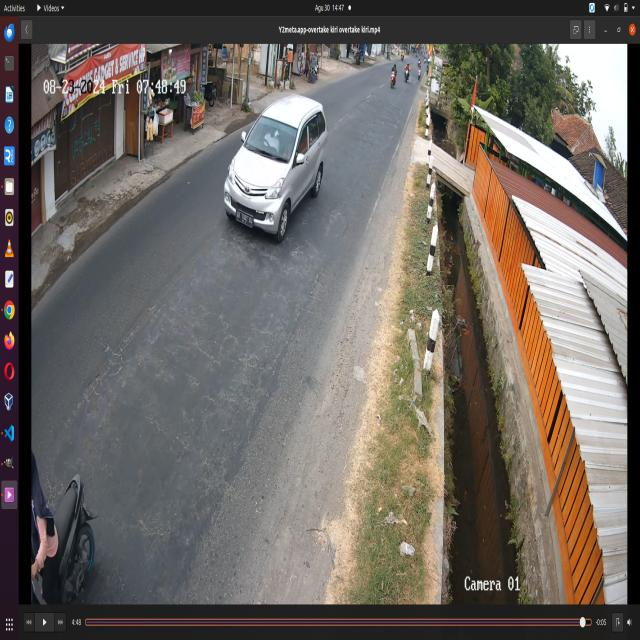person_without_seatbelt: (261, 115, 282, 163)
